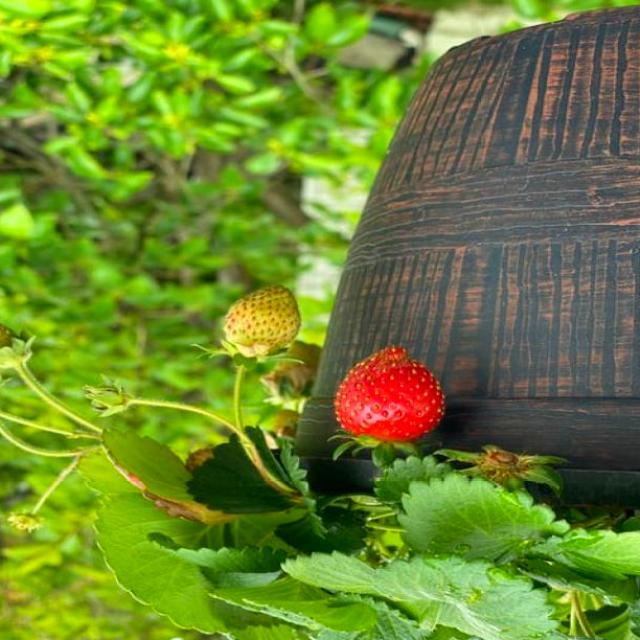Healthy Fruit: (332, 343, 446, 443), (220, 283, 301, 359)
